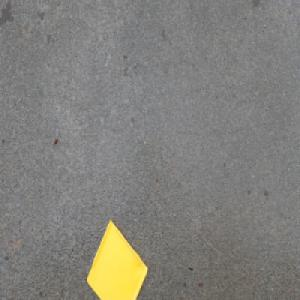PlasticPart: (85, 218, 148, 300)
